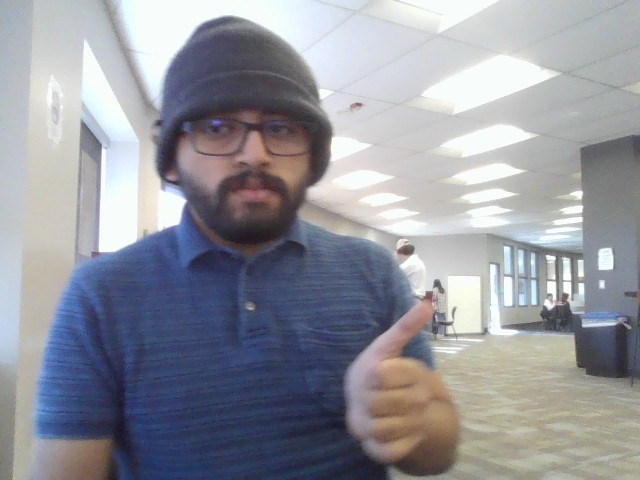start: (341, 290, 458, 468)
